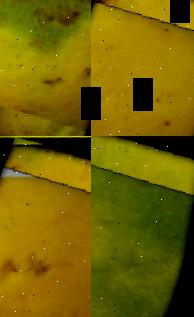PartiallyRipe: (91, 136, 194, 317)
Ripe: (0, 136, 91, 317), (91, 0, 194, 136), (0, 0, 91, 136)
